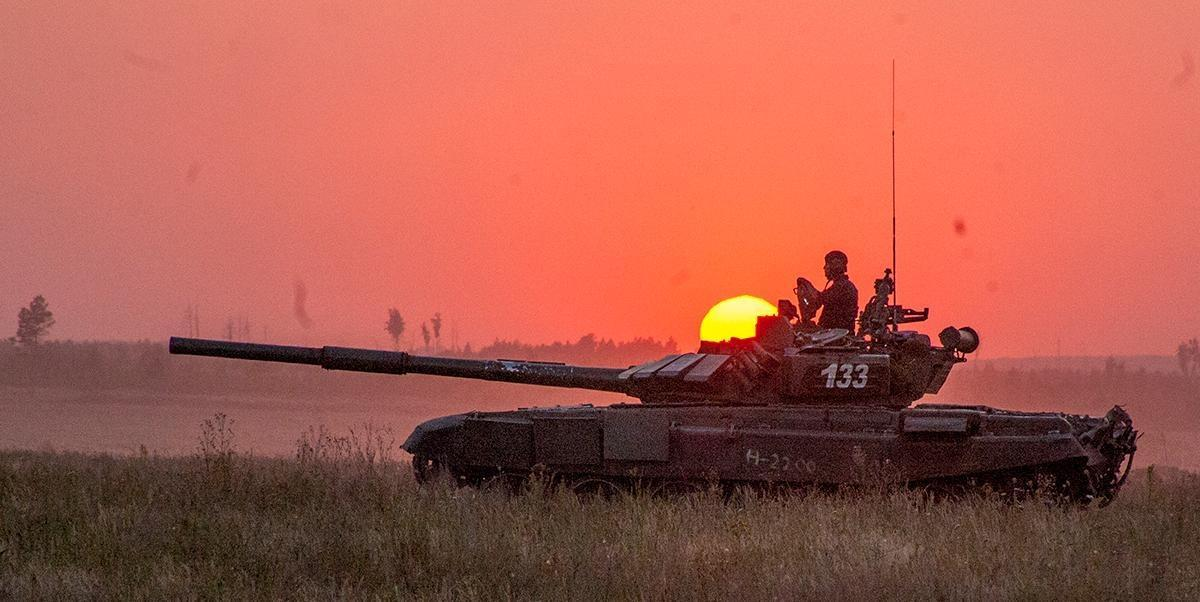tank: (168, 275, 1140, 514)
